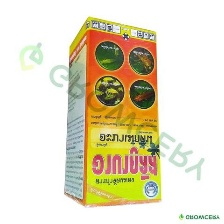carton: (59, 13, 164, 212)
